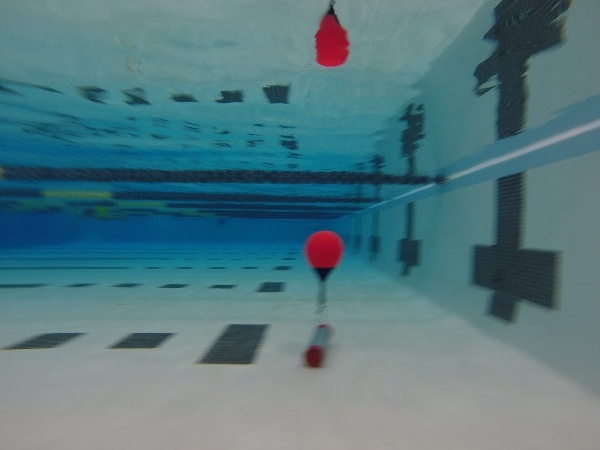buoy_red: (301, 229, 344, 281)
